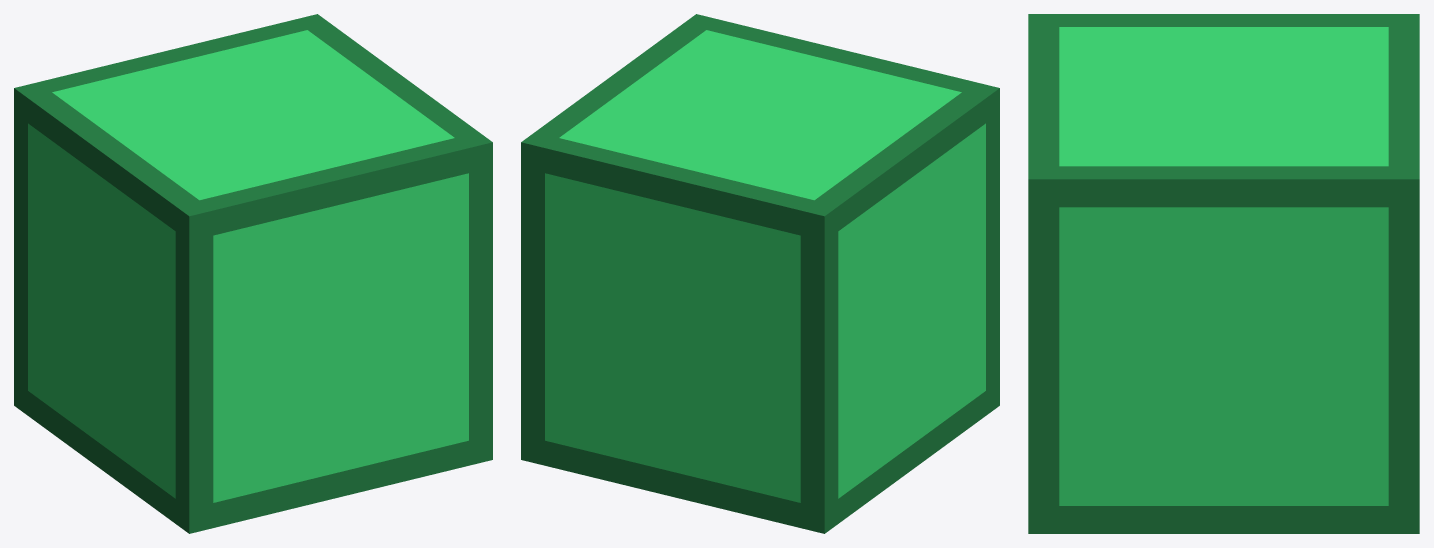
The model's file is slotBlock.glb.
The picture shows the model from 3 angles, left to right: view 1: azimuth 30°, elevation 25°; view 2: azimuth 150°, elevation 25°; view 3: azimuth 270°, elevation 25°; orthographic projection. The views are drawn at different scales.
Parts seen in each view (by area): view 1: SlotBlock; view 2: SlotBlock; view 3: SlotBlock.
Part boxes in pixels (x1,y1,x2,y2): SlotBlock: (14, 14, 492, 533); SlotBlock: (521, 14, 999, 533); SlotBlock: (1028, 14, 1419, 533).
Size of the model in its own units: 2 by 2 by 2.
